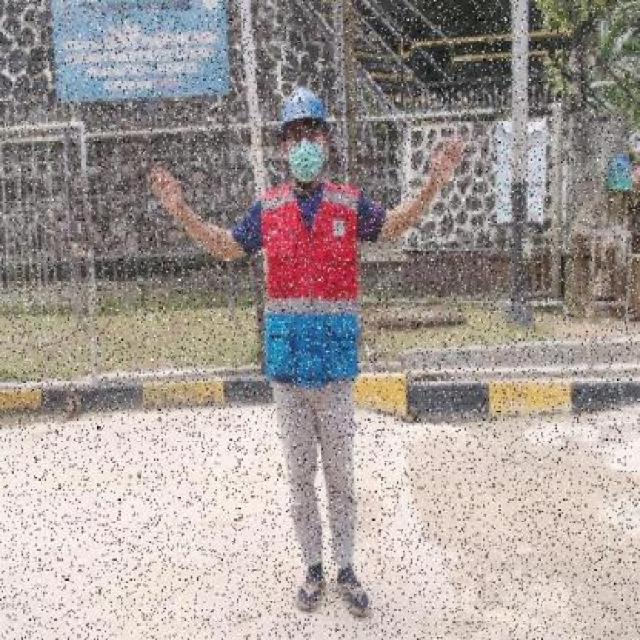Helmet: (280, 85, 328, 130)
Mask: (288, 143, 323, 182)
